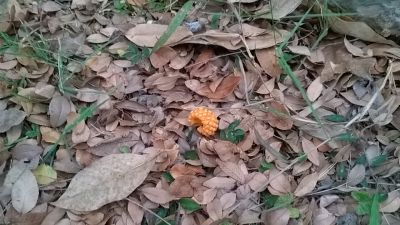eggs: (188, 107, 219, 138)
